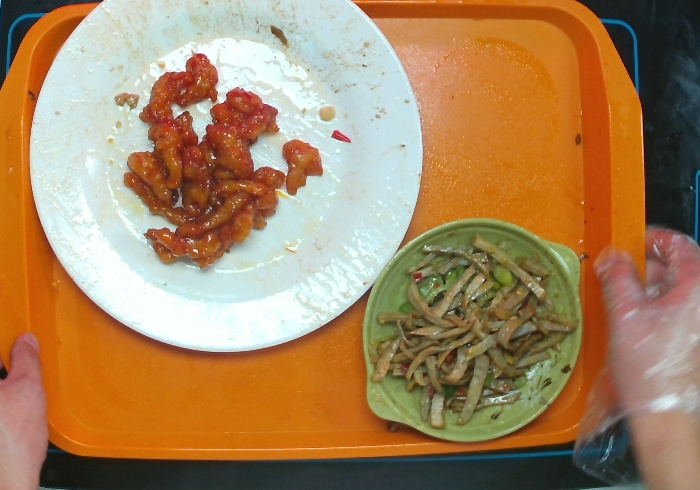NLDX-Da_Yuan_Pan: (25, 1, 425, 358)
NLDX-Lv_Hua_Shuang_Er_Die: (356, 215, 588, 443)
